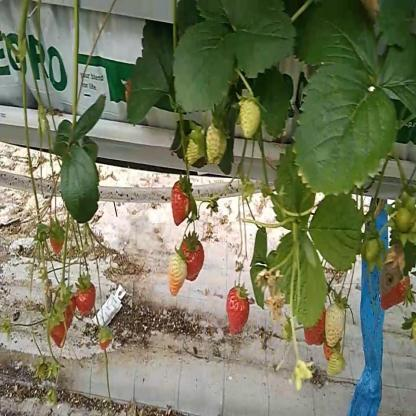ripe: (225, 286, 250, 338), (178, 234, 203, 283), (172, 179, 194, 225), (382, 274, 407, 308), (305, 311, 326, 348), (76, 285, 96, 316), (61, 295, 75, 329), (50, 320, 64, 347), (50, 228, 64, 254)
unripe: (207, 118, 228, 166), (239, 100, 261, 140), (326, 305, 345, 347), (168, 254, 185, 298), (186, 128, 203, 168), (326, 355, 346, 377)
